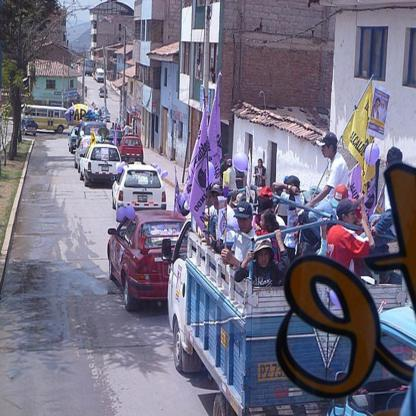face: (238, 213, 251, 233), (259, 247, 271, 268), (347, 209, 358, 228), (212, 192, 222, 209), (323, 142, 331, 159), (260, 214, 268, 229), (377, 102, 381, 109), (259, 162, 263, 168)
